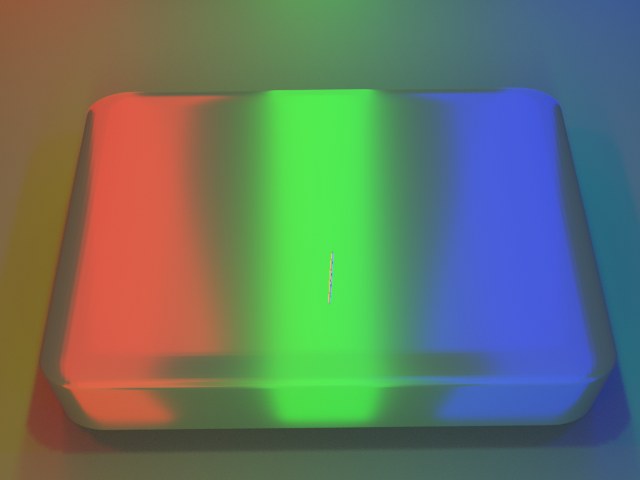scratch: (203, 208, 461, 361)
